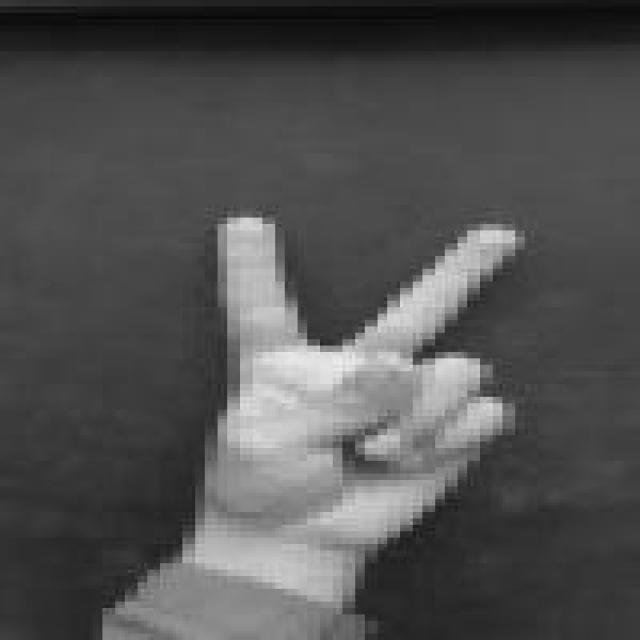V: (182, 198, 538, 541)
